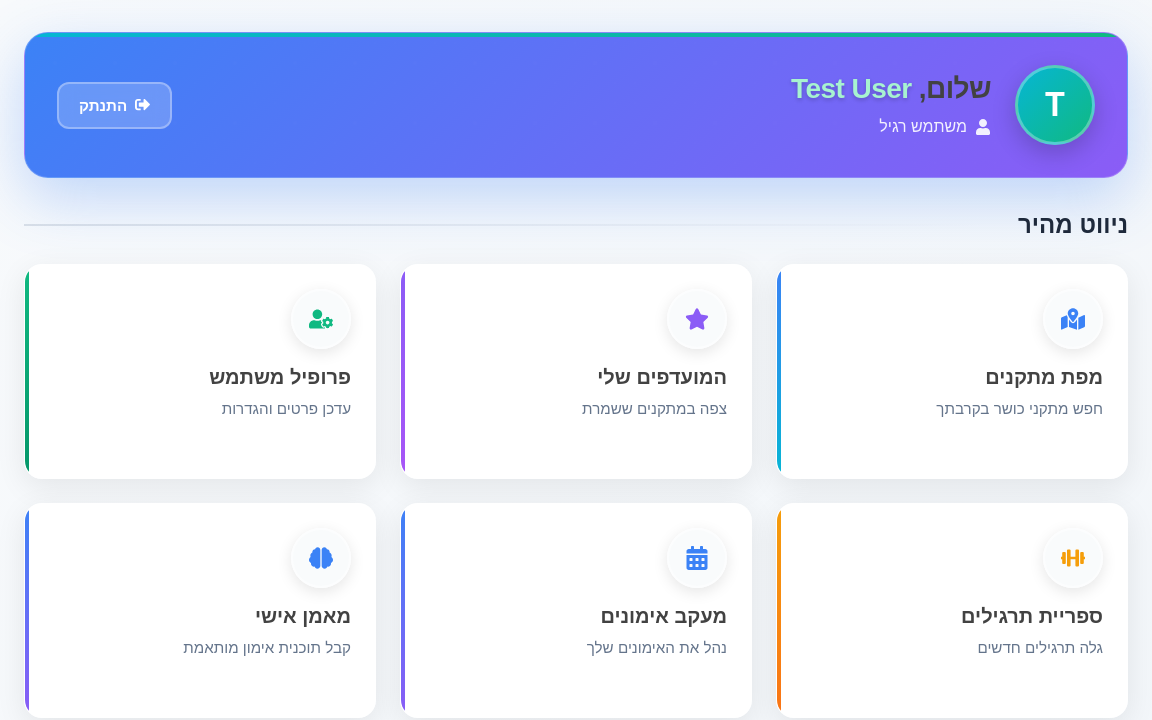
it: RoleSelection › handles sign out process
// Click sign out button
Click the button "התנתק".
click(115, 105)  # box [57, 82, 172, 128]
Wait 800 ms
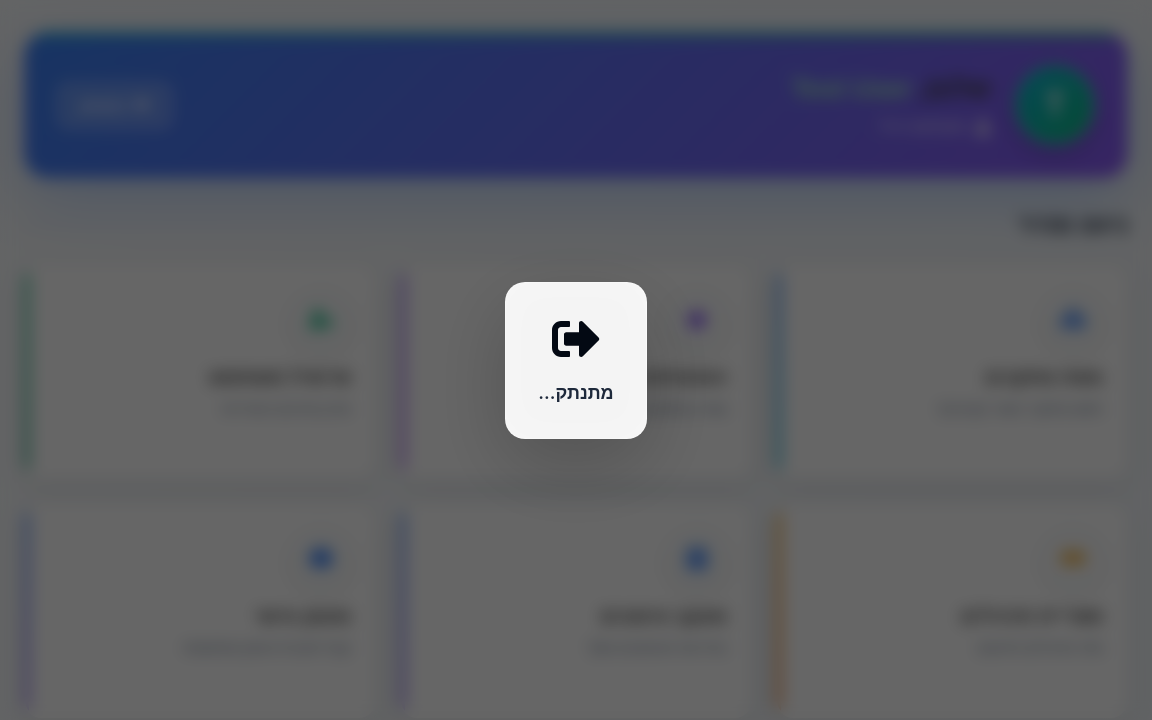
Expected: the text "מתנתק..." is shown, [538, 378, 614, 406]
